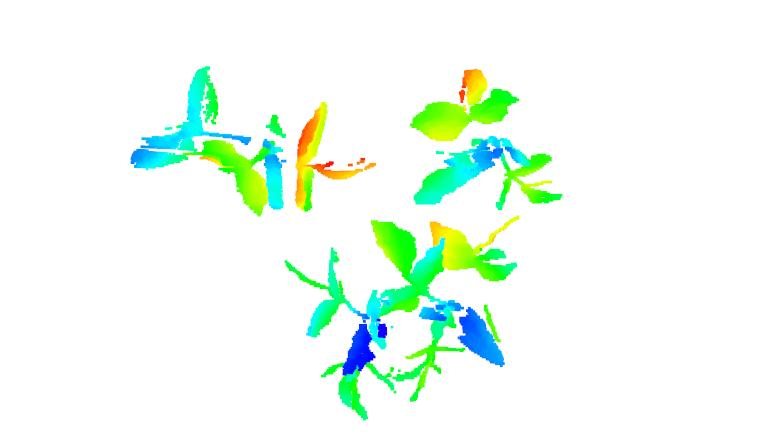mungbean: (122, 64, 376, 216), (408, 65, 562, 278), (371, 219, 510, 404), (282, 246, 400, 422)
